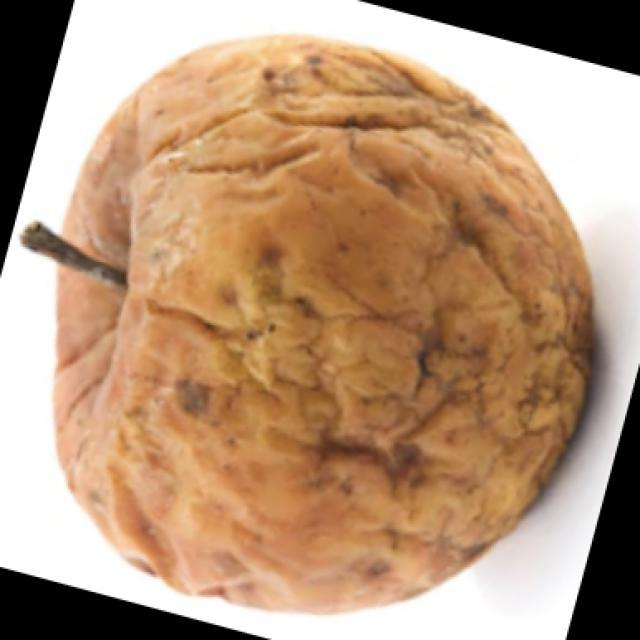Rotten: (50, 28, 592, 600)
